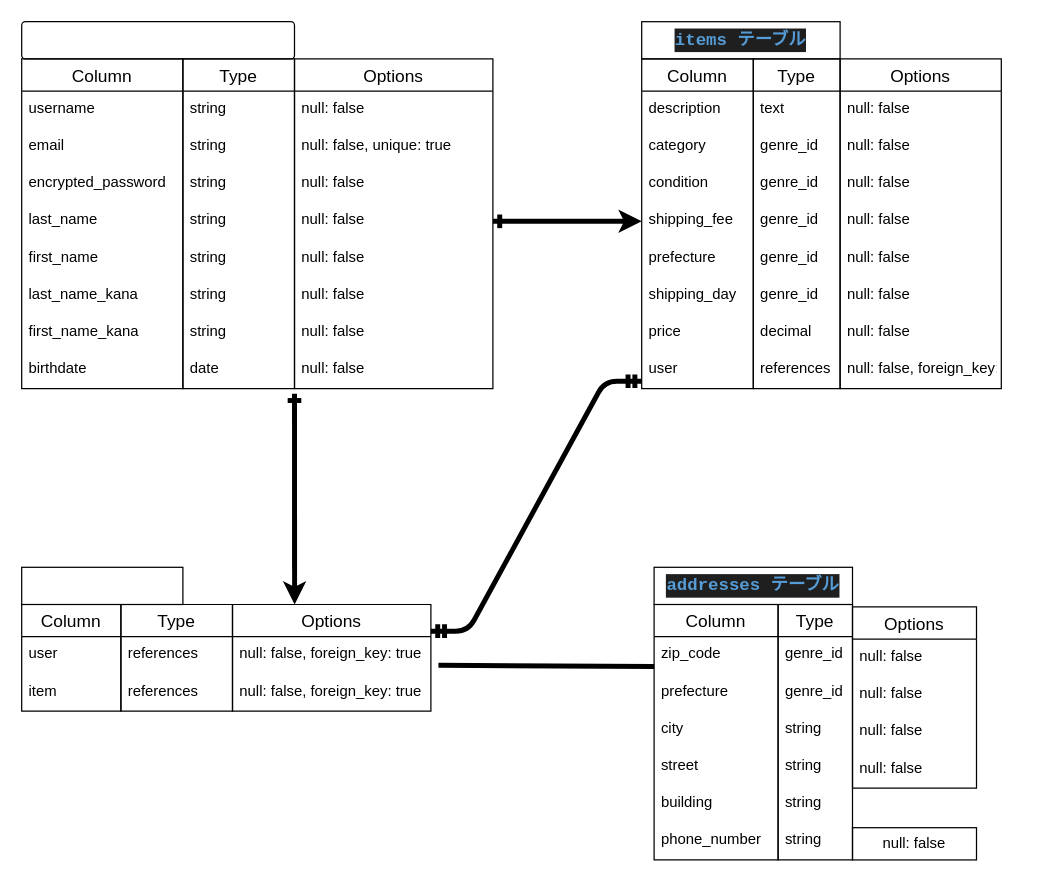
Some shapes in this 1049 by 885 pixel diagram are drawn without their labels. The shapes that lost their labels are listed below. From the top down, each one's centre as x and y in pixels, then its label:
At (x=157, y=39): "users テーブル".
At (x=101, y=585): "orders テーブル".
